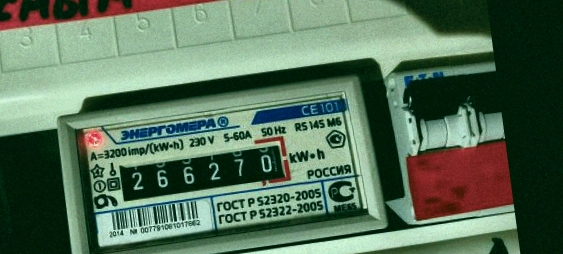0: (258, 152, 274, 173)
2: (129, 170, 146, 191), (206, 159, 222, 181)
6: (154, 166, 170, 189), (181, 164, 197, 185)
7: (232, 156, 246, 177)
screen: (108, 132, 298, 209)
